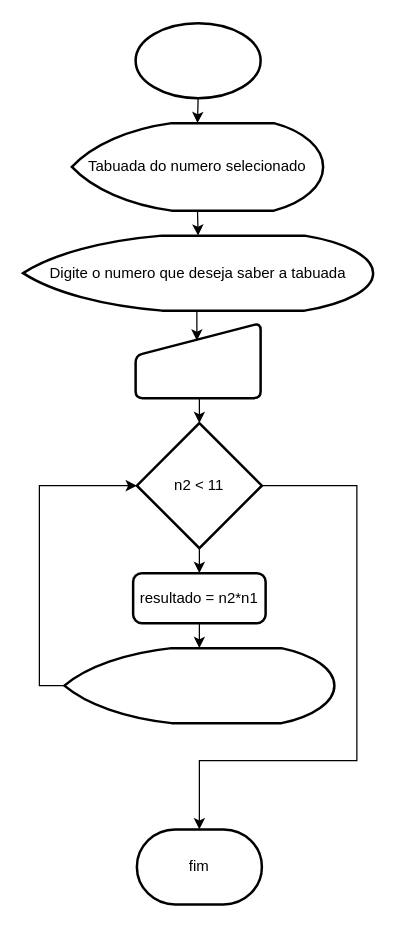
The diagram is 395 pixels wide and 926 high, and some of its shapes have lost their labels. Here are the shapes that lost their labels. From the top down, the box of each, then its label:
(134, 21, 261, 99): inicio
(134, 321, 261, 399): n1
(62, 646, 335, 724): n2 x n1 = resultado.
